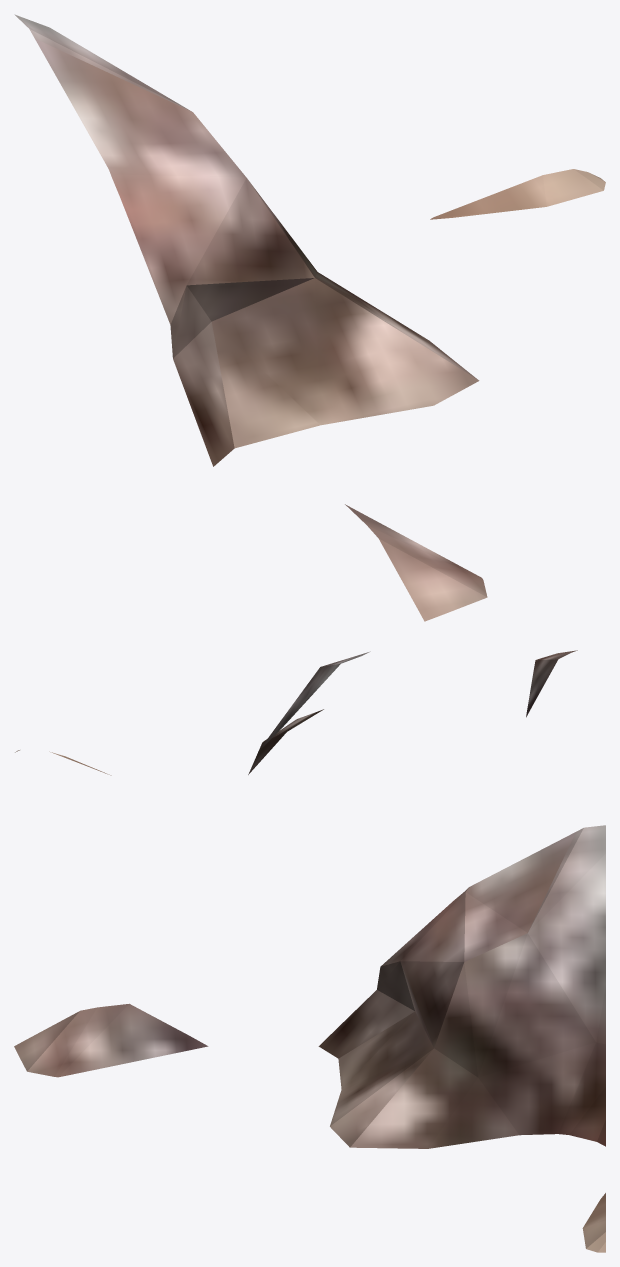
3 views of the same model, one above another, from view 1: azimuth 30°, elevation 25°; view 2: azimuth 150°, elevation 25°; view 3: azimuth 270°, elevation 25° (orthographic). The views are drawn at different scales.
Bounding box in the file's own units: 0.2725 × 0.1362 × 0.3303.
1 material, 1 textured.
